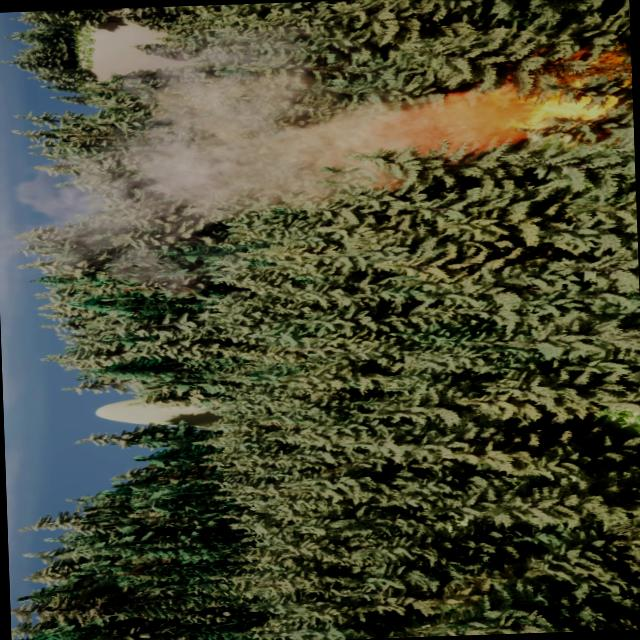fire: (476, 52, 633, 134)
smoke: (0, 0, 505, 291)
